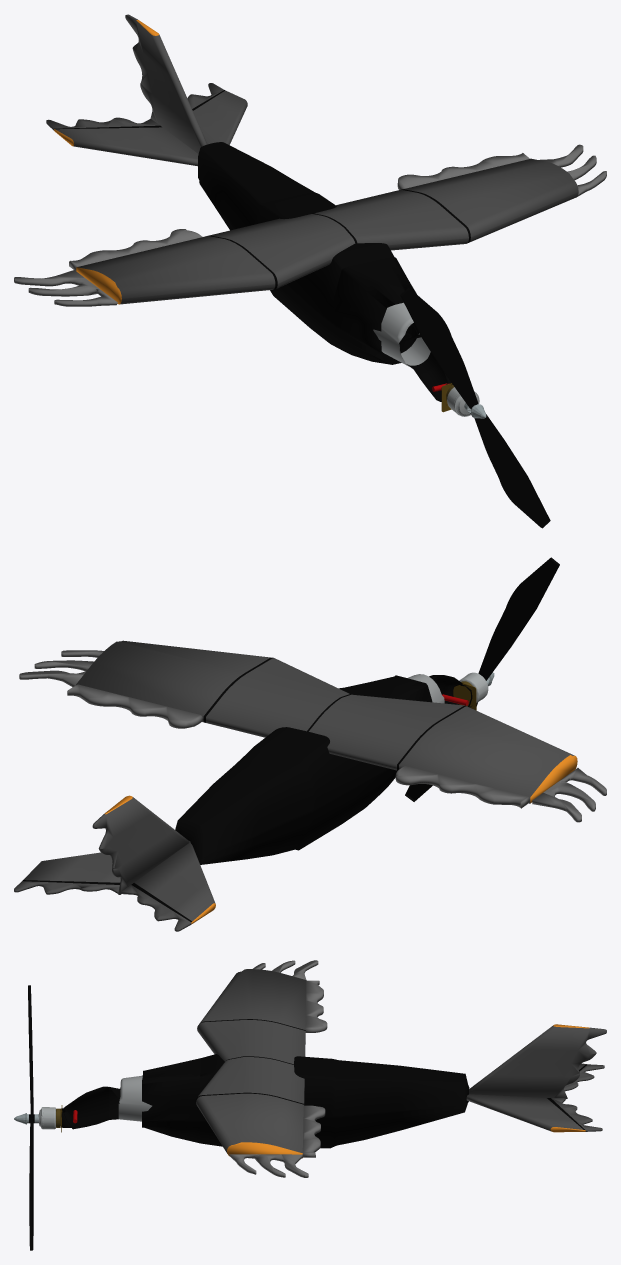
File: UAV_2.gltf
The picture shows the model from 3 angles, top to bottom: view 1: azimuth 30°, elevation 25°; view 2: azimuth 150°, elevation 25°; view 3: azimuth 270°, elevation 25°; orthographic projection. The views are drawn at different scales.
Visible parts, largest first — view 1: Cube.009, Sphere.003, Cylinder; view 2: Cube.009, Sphere.003, Cylinder; view 3: Cube.009, Cylinder, Sphere.003.
Part boxes in pixels (x1,y1,x2,y2): Cube.009: [14, 14, 606, 364]; Sphere.003: [400, 288, 550, 528]; Cylinder: [373, 302, 486, 418]; Cube.009: [14, 640, 606, 931]; Sphere.003: [405, 557, 559, 801]; Cylinder: [407, 672, 494, 710]; Cube.009: [142, 960, 606, 1177]; Cylinder: [14, 1075, 151, 1132]; Sphere.003: [28, 985, 33, 1250].
Bounding box in the file's own units: 223 × 104 × 260.
